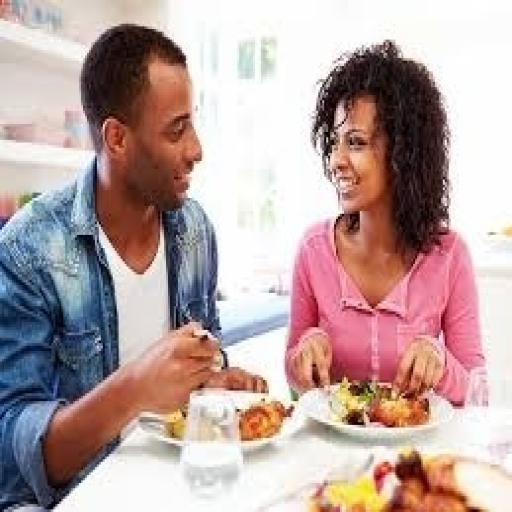eating: (0, 18, 269, 510), (283, 37, 490, 409)
